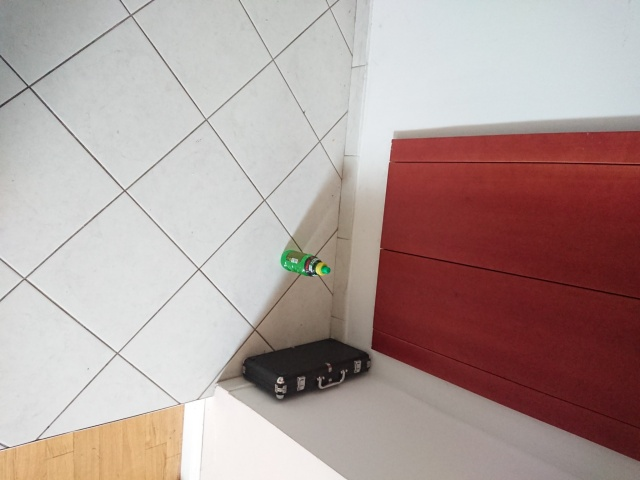Vindi Iso Sport Lemon-Grapefruit 500mL: (279, 248, 333, 279)
